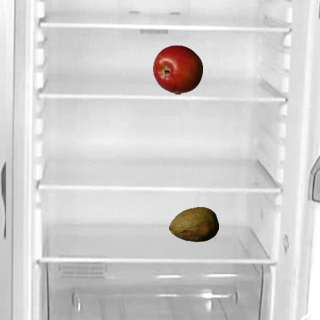Apple Braeburn: (152, 44, 202, 94)
Papaya: (168, 199, 218, 249)
